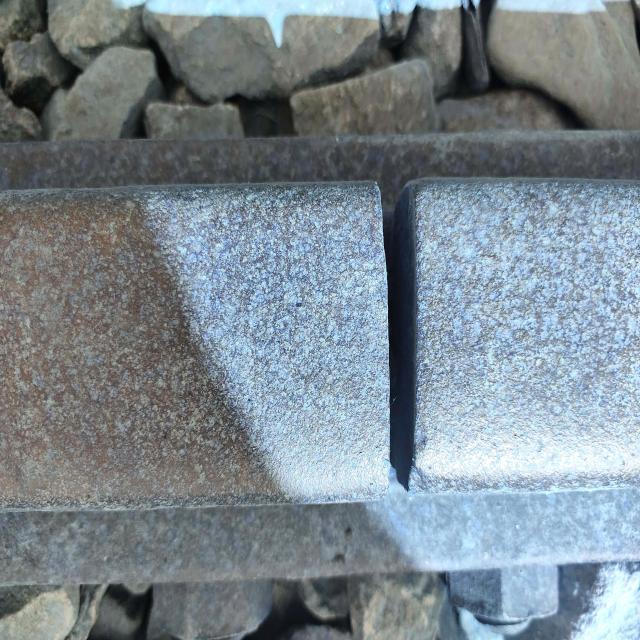broken_rail_low: (347, 152, 470, 512)
